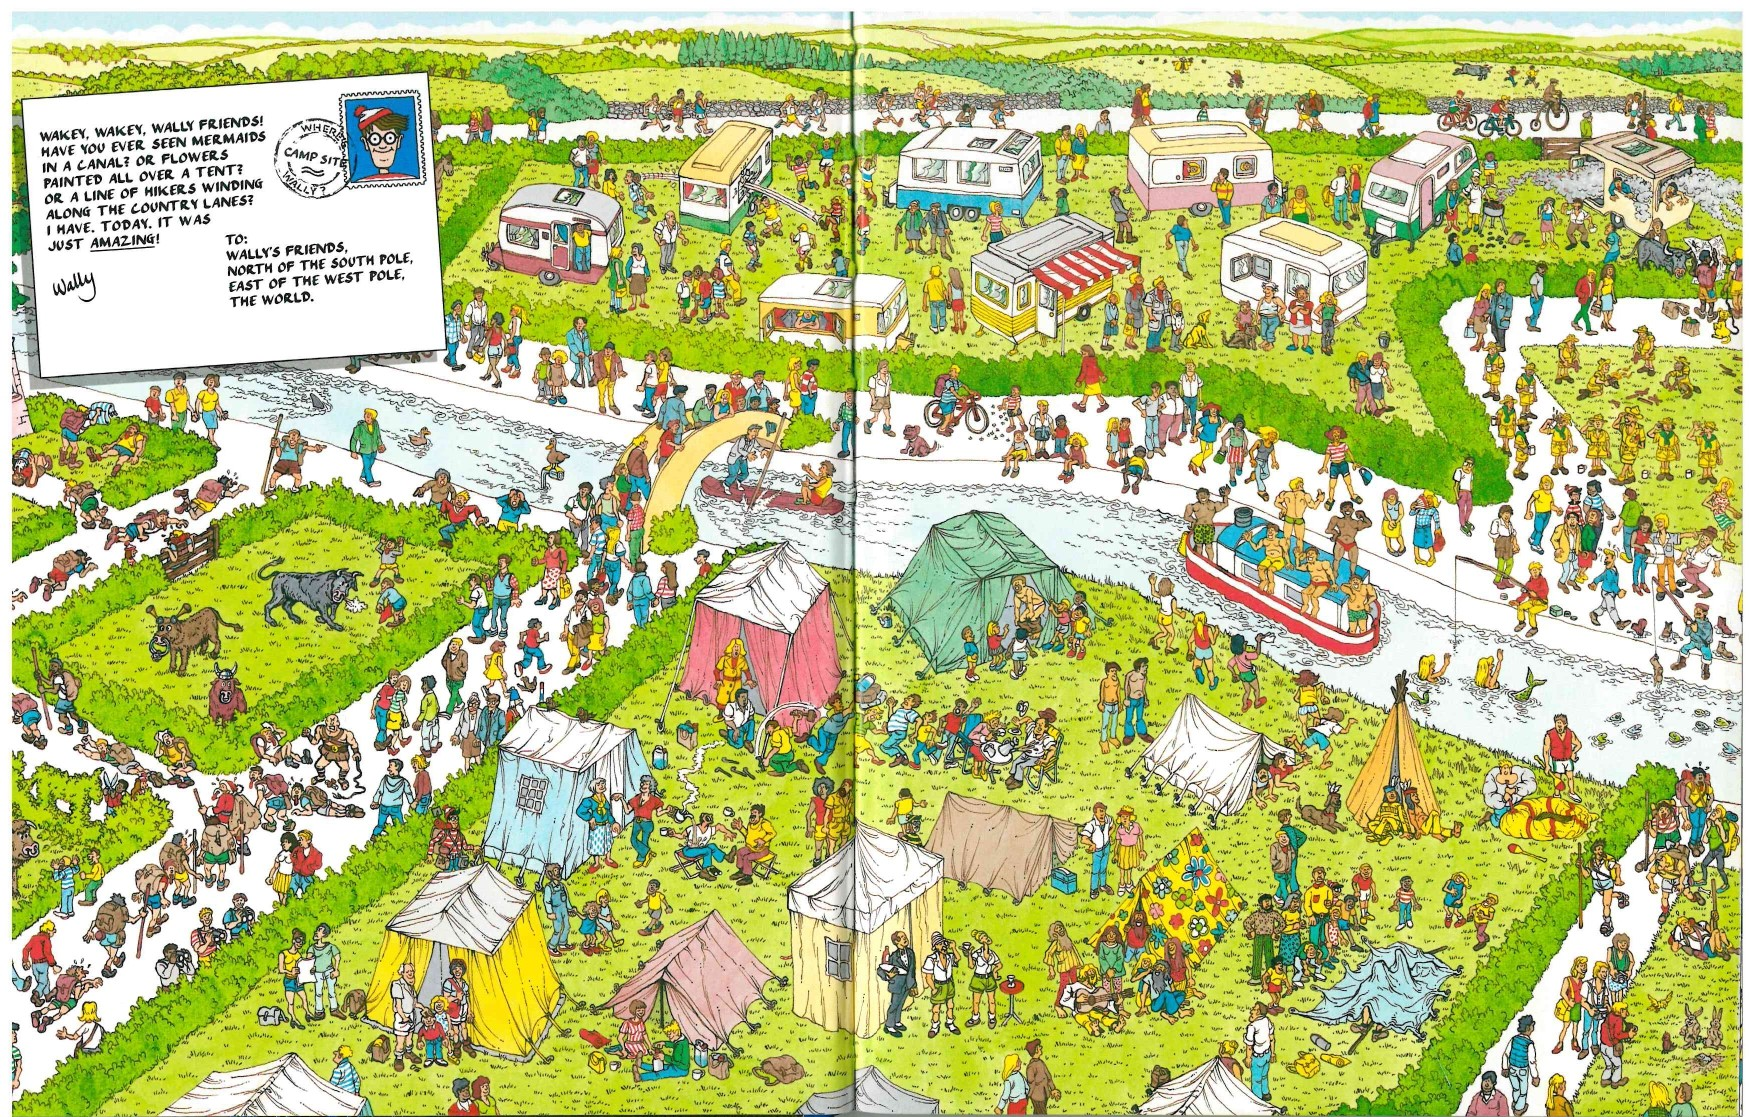waldos: (351, 102, 414, 179), (423, 802, 487, 872)
